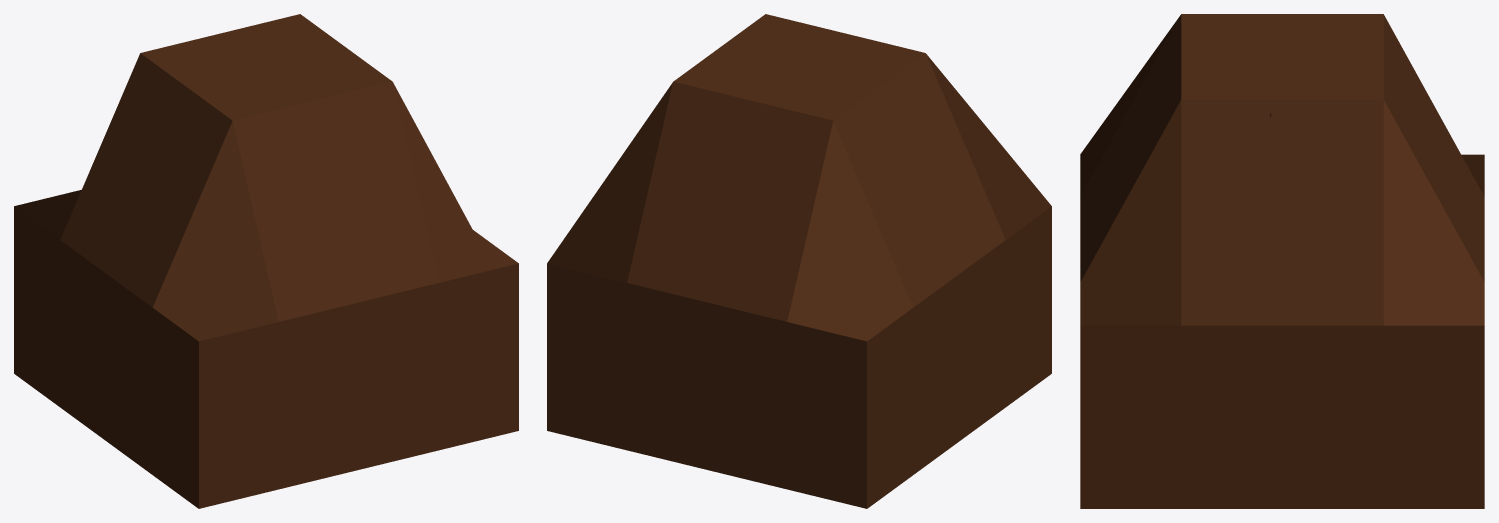
Rendered from rock.glb.
3 renders of one model, left to right at view 1: azimuth 30°, elevation 25°; view 2: azimuth 150°, elevation 25°; view 3: azimuth 270°, elevation 25°, orthographic. The views are drawn at different scales.
Parts seen in each view (by area): view 1: Cube; view 2: Cube; view 3: Cube.
Boxes of the visible parts, x1,y1,x2,y2 form: Cube: [14, 14, 518, 508]; Cube: [547, 14, 1051, 508]; Cube: [1080, 14, 1484, 508].
Size of the model in its own units: 2 by 2 by 2.
1 material, 1 textured.
